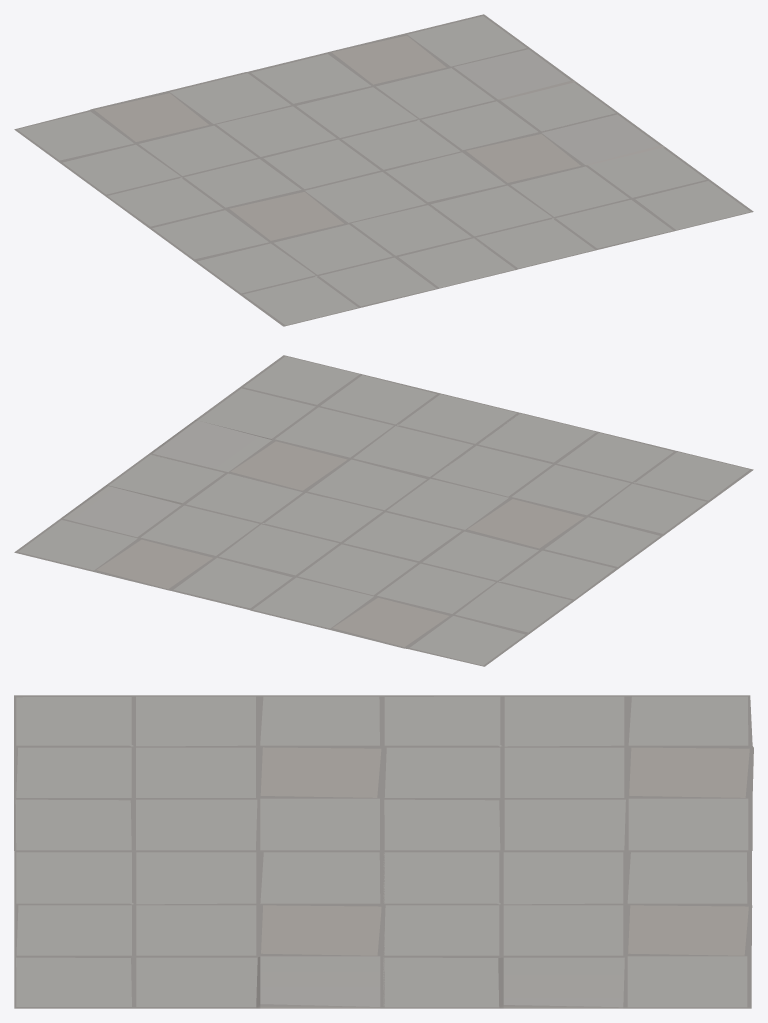
Rendered from BrickRoad_3.fbx.
3 renders of one model, top to bottom at view 1: azimuth 30°, elevation 25°; view 2: azimuth 150°, elevation 25°; view 3: azimuth 270°, elevation 25°, orthographic. The views are drawn at different scales.
Parts seen in each view (by area): view 1: Tile_09; view 2: Tile_09; view 3: Tile_09.
Part boxes in pixels (x1,y1,x2,y2): Tile_09: (14, 14, 753, 326); Tile_09: (14, 355, 753, 666); Tile_09: (14, 695, 753, 1008).
Size of the model in its own units: 4.81 by 0.0145 by 4.8.
